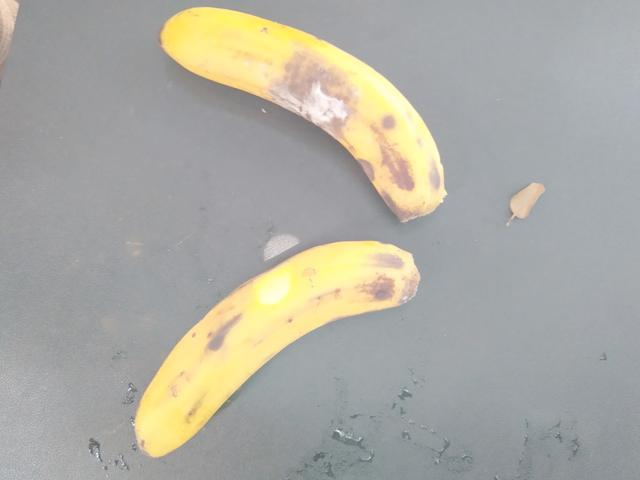overripe: (125, 236, 439, 479), (159, 0, 461, 216)
rotten: (268, 43, 363, 160)
